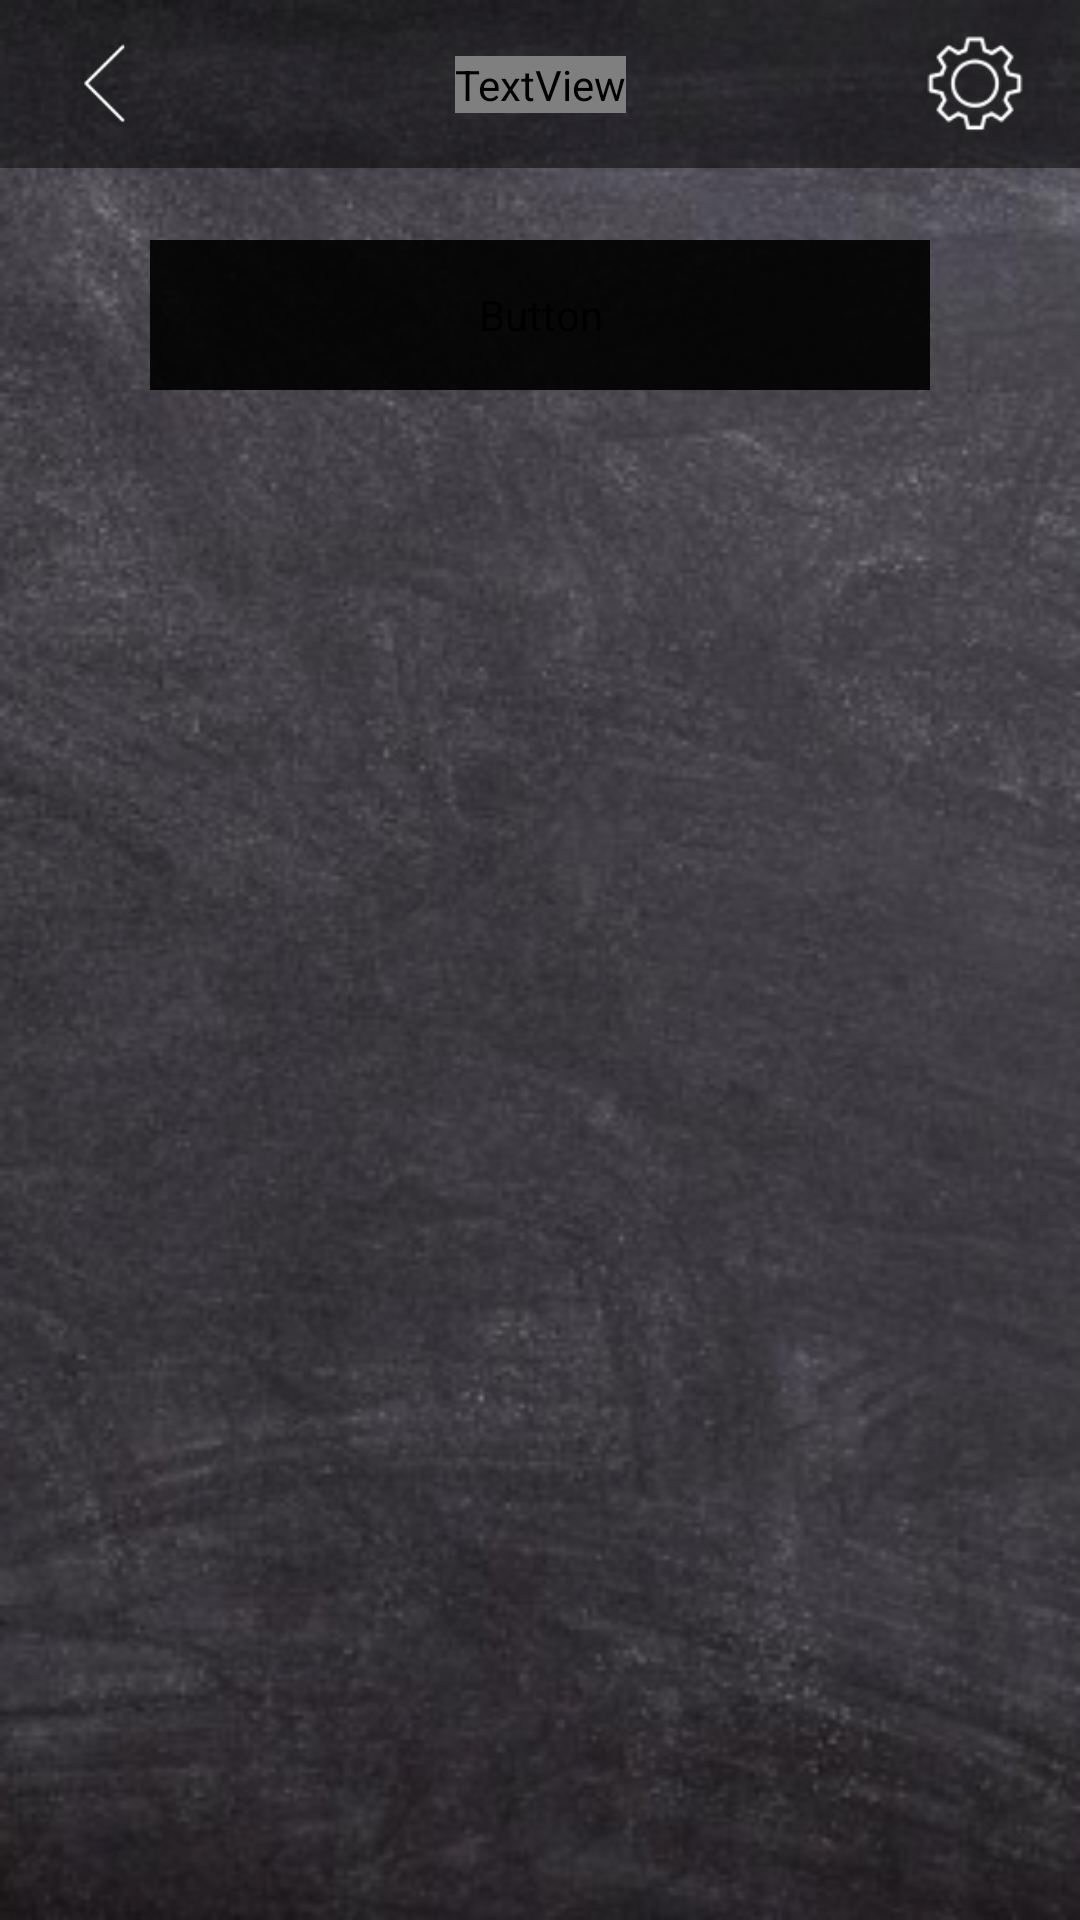

Point at icon controls on the screen. Image size 1080w x 1920h, points as (x,y).
config: (975,83)
voltar: (104,83)
